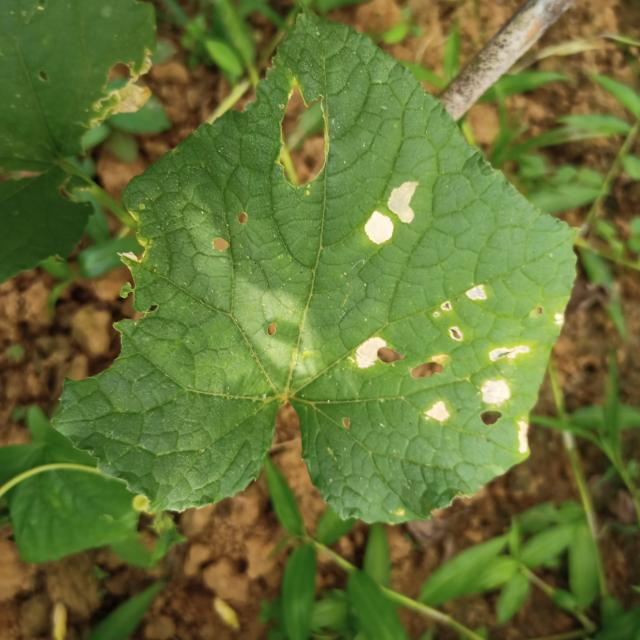disease_cucumber: (356, 285, 530, 463), (367, 182, 414, 242)
